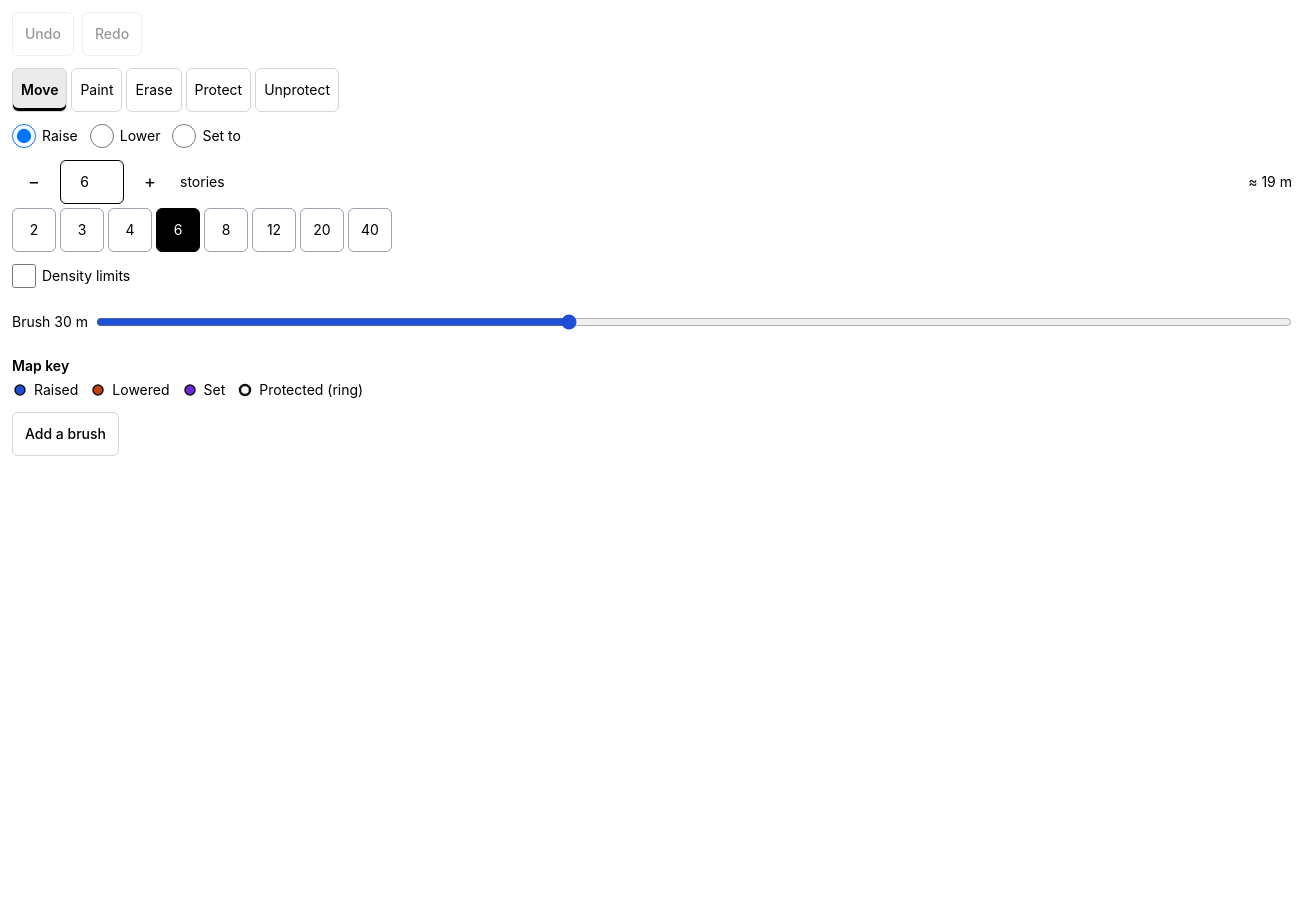
Test: BrushSection › kinds wait for the catalog
The image size is (1304, 912).
Click the button "Add a brush" at (66, 434), box [12, 412, 119, 456]
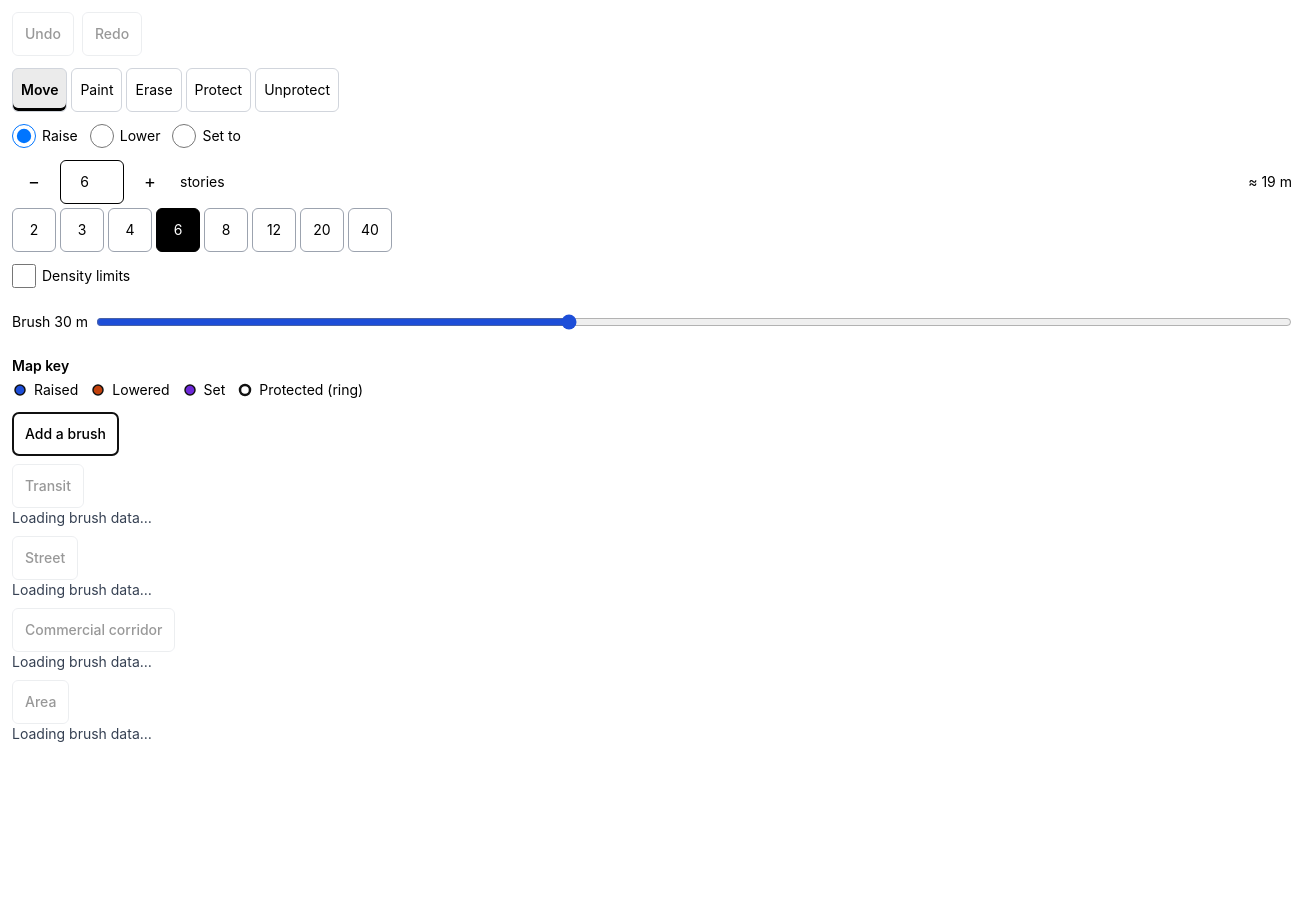
Now the button "Transit" is disabled, box [12, 464, 84, 508]
